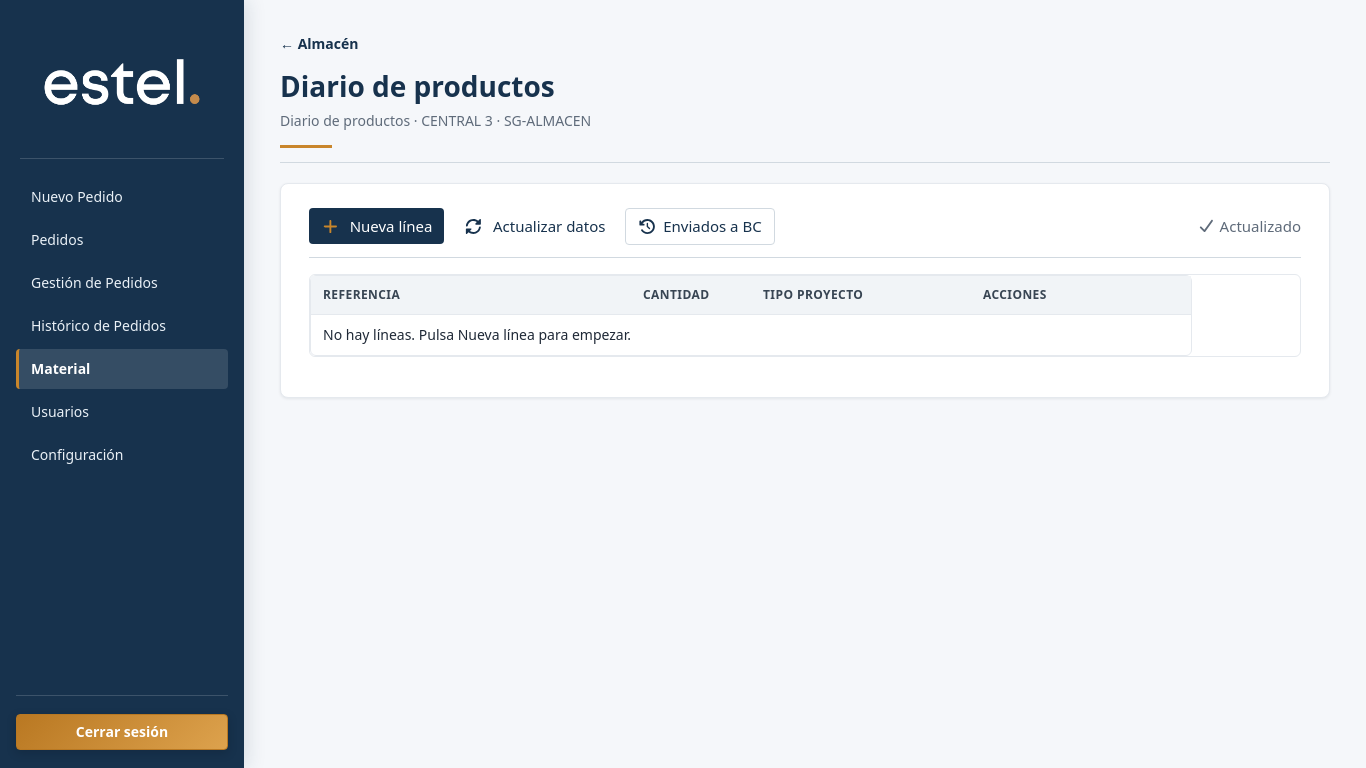
Test: nueva línea inicia INDIRECTO, sin aplicación y valores calculados por BC
This screenshot has width=1366, height=768.
Step 1. Click the button "Nueva línea" → point(377, 226), box [309,208,444,244]
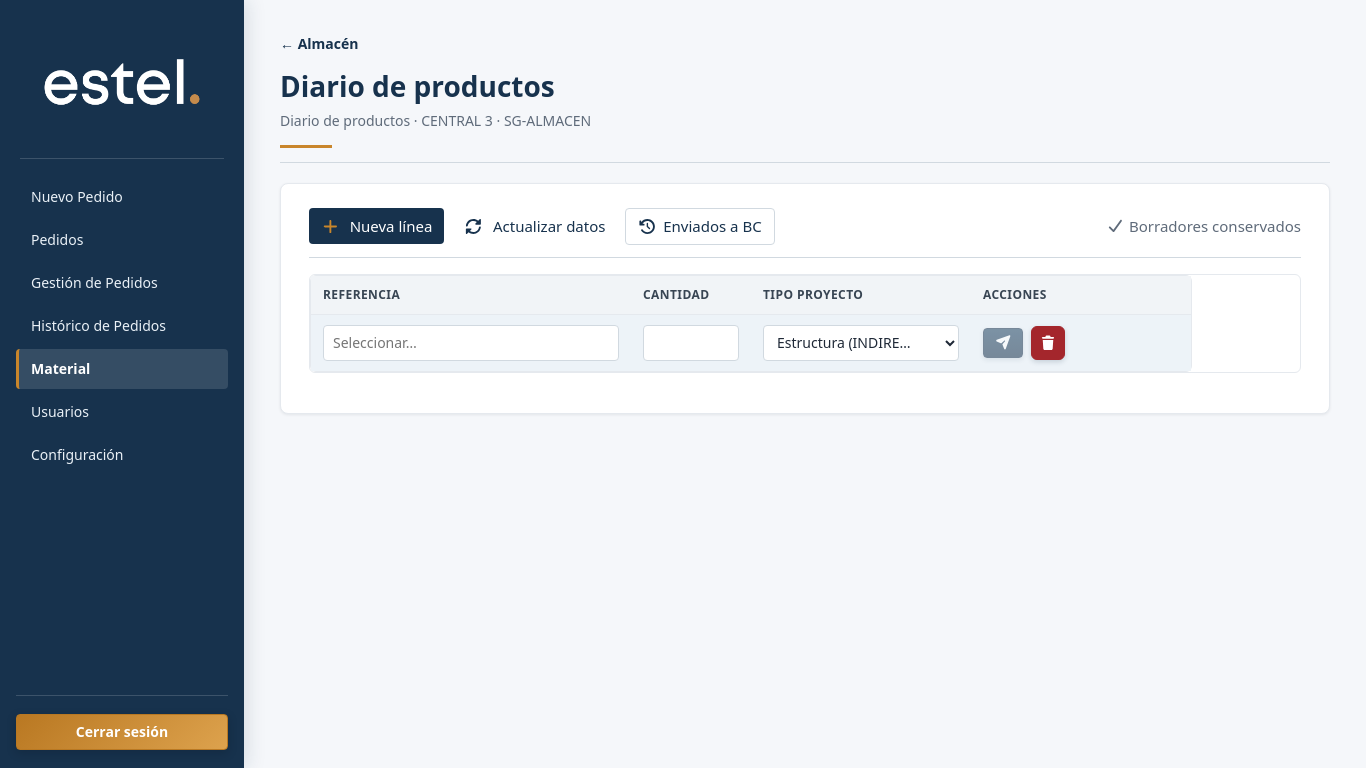
Check: the dropdown named "Tipo proyecto, fila 1" shows "Estructura (INDIRECTO)", box [763,325,959,361]
